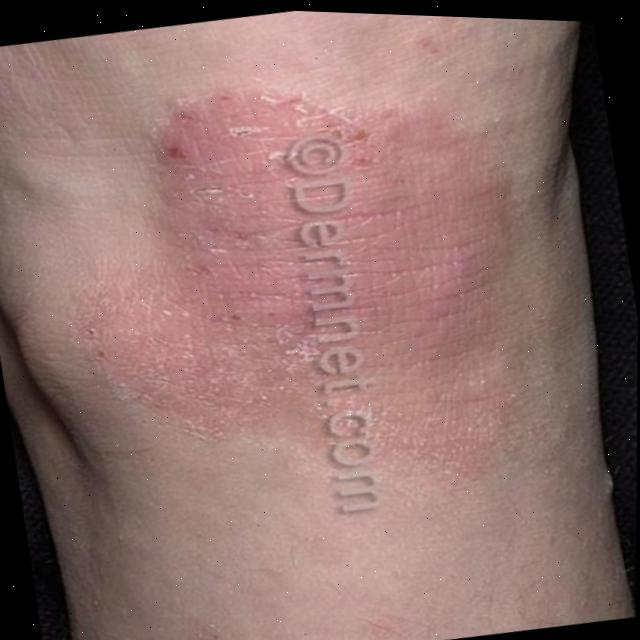Eczema: (82, 41, 552, 564)
